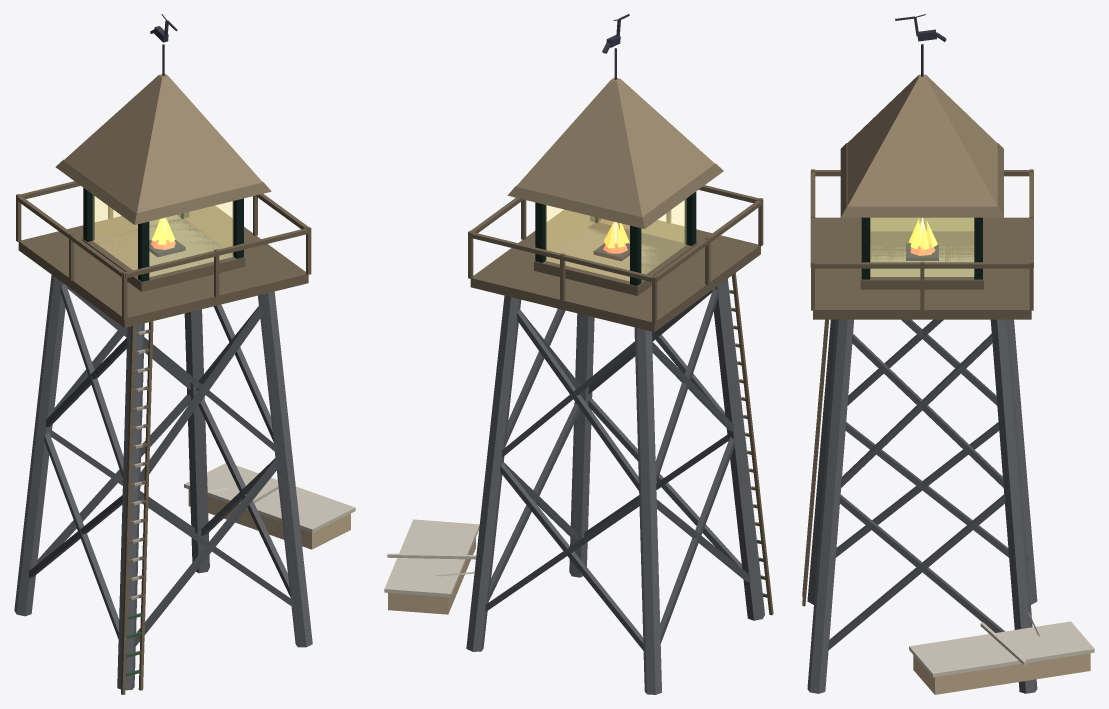
File: heron_light_lit.glb
The picture shows the model from 3 angles, left to right: view 1: azimuth 30°, elevation 25°; view 2: azimuth 150°, elevation 25°; view 3: azimuth 270°, elevation 25°; orthographic projection. The views are drawn at different scales.
Visible parts, largest first — view 1: driftwood_d40, silverfog_d45, silverfog_d55, driftwood_d20, kindle_glow_horn30, bone_d10, driftwood_d35, pine_d60, driftwood_l5, ink_l15; view 2: driftwood_d40, silverfog_d45, silverfog_d55, driftwood_d20, kindle_glow_horn30, bone_d10, driftwood_d35, pine_d60, driftwood_l5, ink_l15; view 3: driftwood_d40, silverfog_d45, driftwood_d20, silverfog_d55, bone_d10, kindle_glow_horn30, driftwood_l5, driftwood_d35, pine_d60, ink_l15, ember_glow.
Boxes of the visible parts, <box> form: driftwood_d40: <box>16,181,311,694</box>; silverfog_d45: <box>14,275,312,690</box>; silverfog_d55: <box>29,284,293,646</box>; driftwood_d20: <box>64,74,262,212</box>; kindle_glow_horn30: <box>93,195,233,276</box>; bone_d10: <box>184,463,355,532</box>; driftwood_d35: <box>55,159,271,224</box>; pine_d60: <box>83,188,243,281</box>; driftwood_l5: <box>188,489,350,549</box>; ink_l15: <box>149,14,185,257</box>; driftwood_d40: <box>468,185,773,615</box>; silverfog_d45: <box>466,279,764,694</box>; silverfog_d55: <box>485,288,750,650</box>; driftwood_d20: <box>516,77,714,217</box>; kindle_glow_horn30: <box>546,199,686,280</box>; bone_d10: <box>384,519,479,597</box>; driftwood_d35: <box>507,163,723,228</box>; pine_d60: <box>535,192,696,285</box>; driftwood_l5: <box>388,538,475,614</box>; ink_l15: <box>593,14,629,261</box>; driftwood_d40: <box>802,169,1033,606</box>; silverfog_d45: <box>807,319,1037,693</box>; driftwood_d20: <box>847,74,997,206</box>; silverfog_d55: <box>817,319,1027,650</box>; bone_d10: <box>909,612,1094,677</box>; kindle_glow_horn30: <box>870,217,974,276</box>; driftwood_l5: <box>913,653,1090,694</box>; driftwood_d35: <box>840,143,1003,217</box>; pine_d60: <box>861,217,982,279</box>; ink_l15: <box>895,14,946,260</box>; ember_glow: <box>909,218,937,249</box>.
Size of the model in its own units: 5.32 by 10.53 by 4.42.
